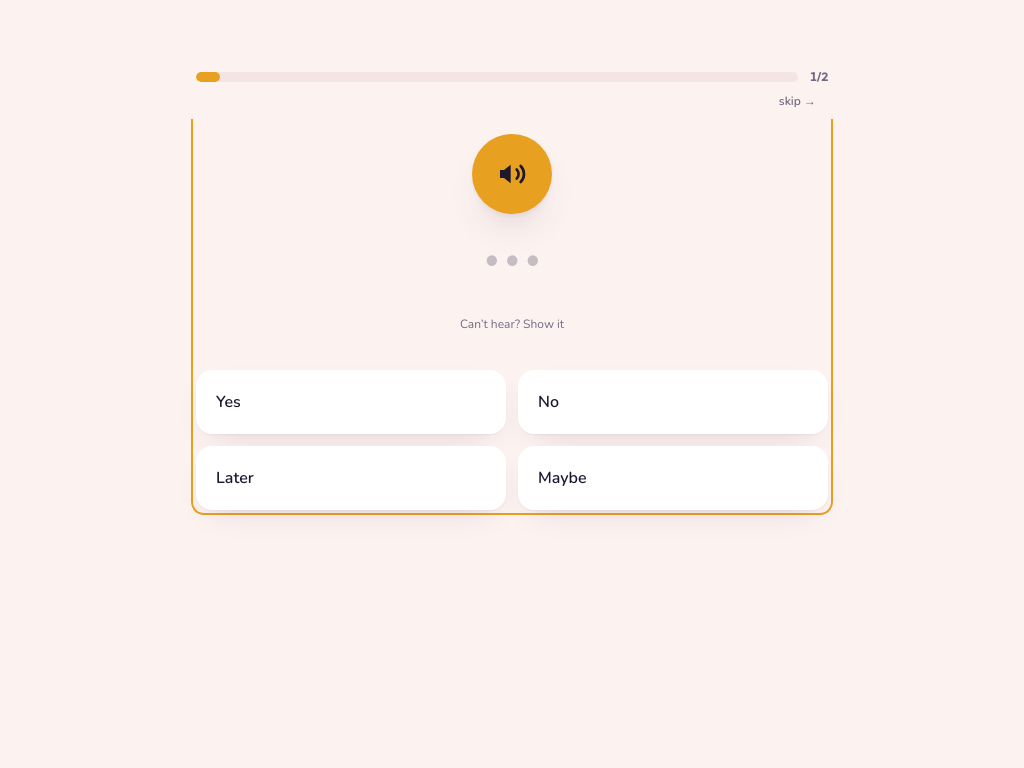
Test case: ExerciseRunner › advances after answering
The width and height of the screenshot is (1024, 768).
What coordinates should you click on to do the following:
click the button "No"
I would click on:
 (548, 402)
Its box is [518,370,828,434].
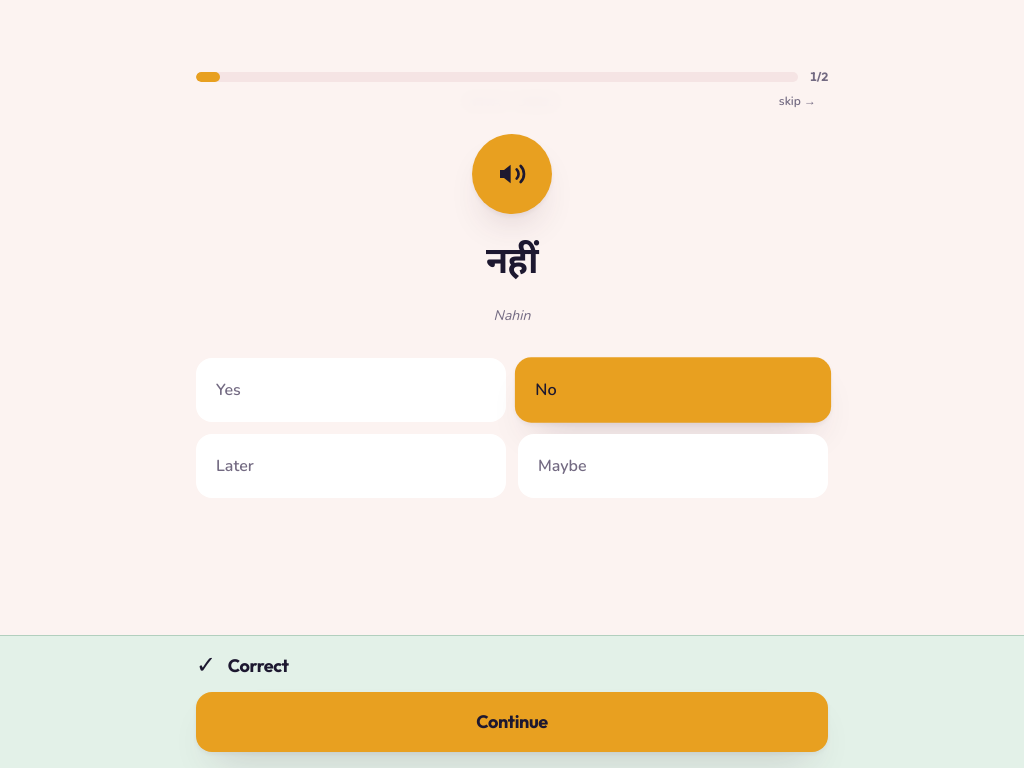
What coordinates should you click on to do the following:
click the button "Continue"
I would click on:
 (512, 722)
Its box is [196,692,828,752].
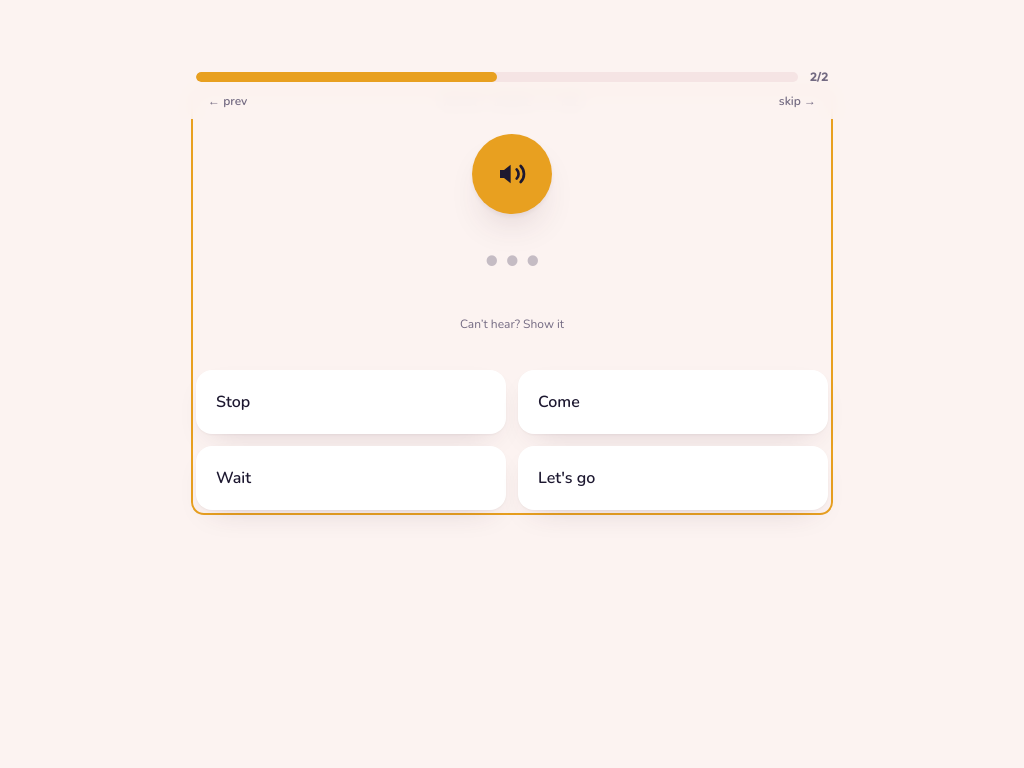
Check: the text "2/2" is shown, box [810,69,828,85]
